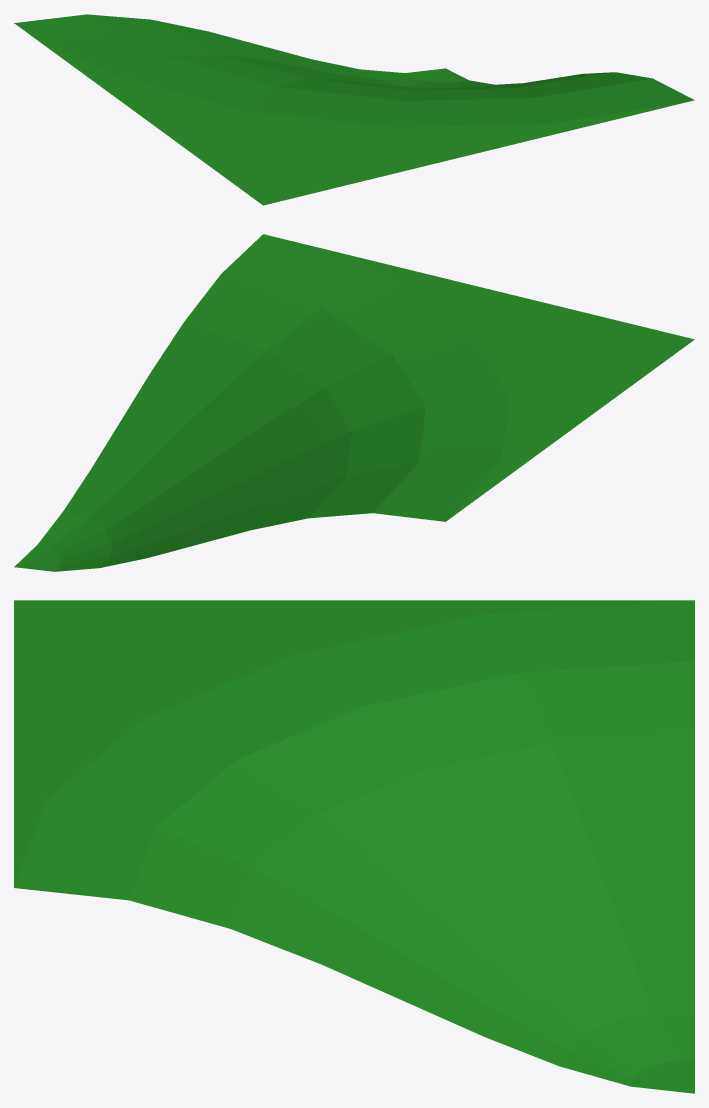
The model's file is Terrain_Hill_Corner_Inner_3x3.obj.
3 views of the same model, one above another, from view 1: azimuth 30°, elevation 25°; view 2: azimuth 150°, elevation 25°; view 3: azimuth 270°, elevation 25° (orthographic). The views are drawn at different scales.
Parts seen in each view (by area): view 1: Grass; view 2: Grass; view 3: Grass.
Part boxes in pixels (bbox=[...]): Grass: bbox=[14, 14, 694, 205]; Grass: bbox=[14, 234, 694, 571]; Grass: bbox=[14, 600, 694, 1093].
Size of the model in its own units: 3 by 1 by 3.
